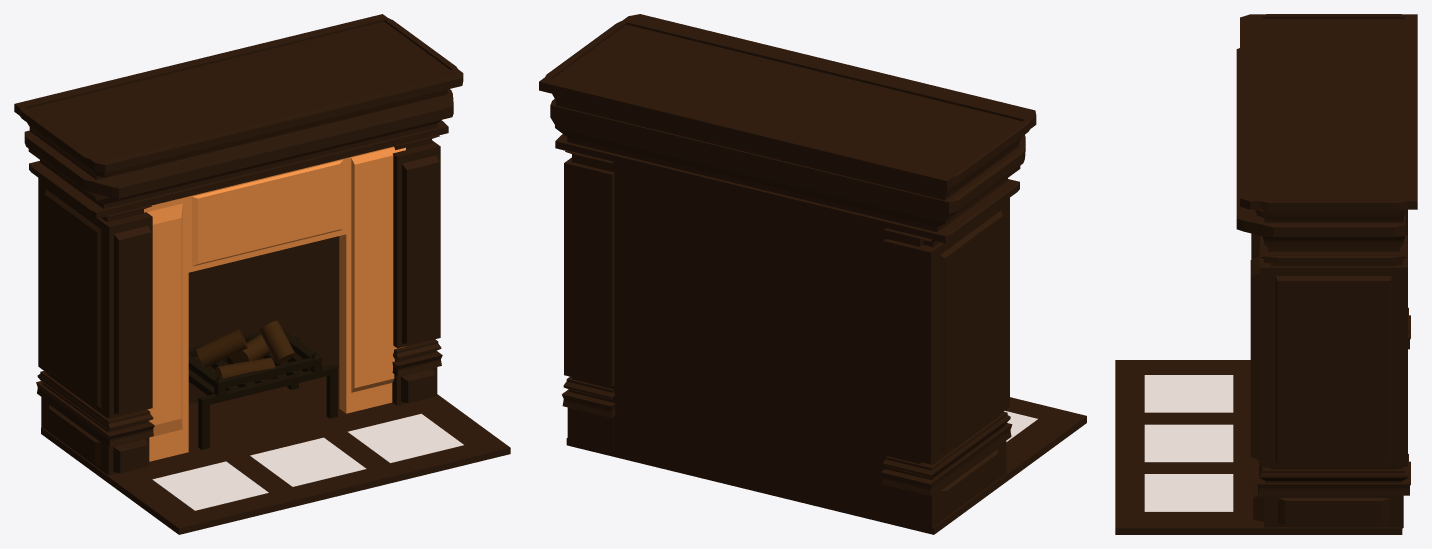
Rendered from M_ChemineeBoisOr.fbx.
The picture shows the model from 3 angles, left to right: view 1: azimuth 30°, elevation 25°; view 2: azimuth 150°, elevation 25°; view 3: azimuth 270°, elevation 25°; orthographic projection. The views are drawn at different scales.
Parts seen in each view (by area): view 1: Cube.003; view 2: Cube.003; view 3: Cube.003.
Boxes of the visible parts, box(x1,y1,x2,y2) form: Cube.003: box(14, 14, 510, 534); Cube.003: box(539, 14, 1086, 534); Cube.003: box(1115, 14, 1417, 534).
Bounding box in the file's own units: 1207 × 1043 × 818.
